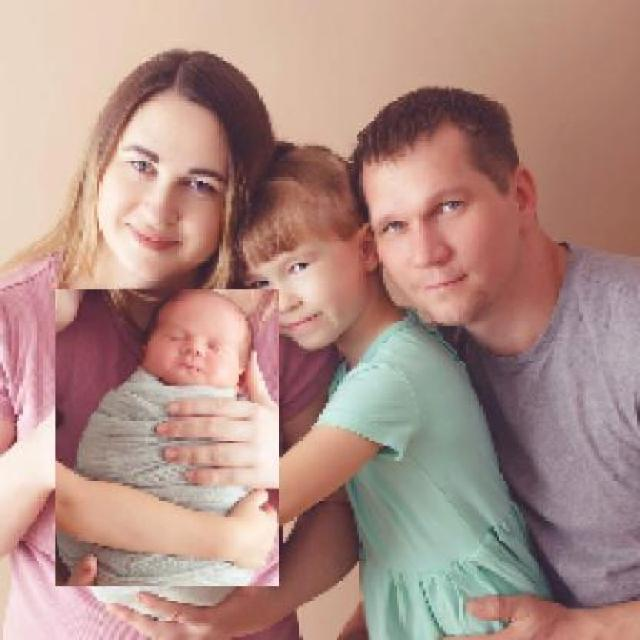child: (54, 288, 280, 588)
